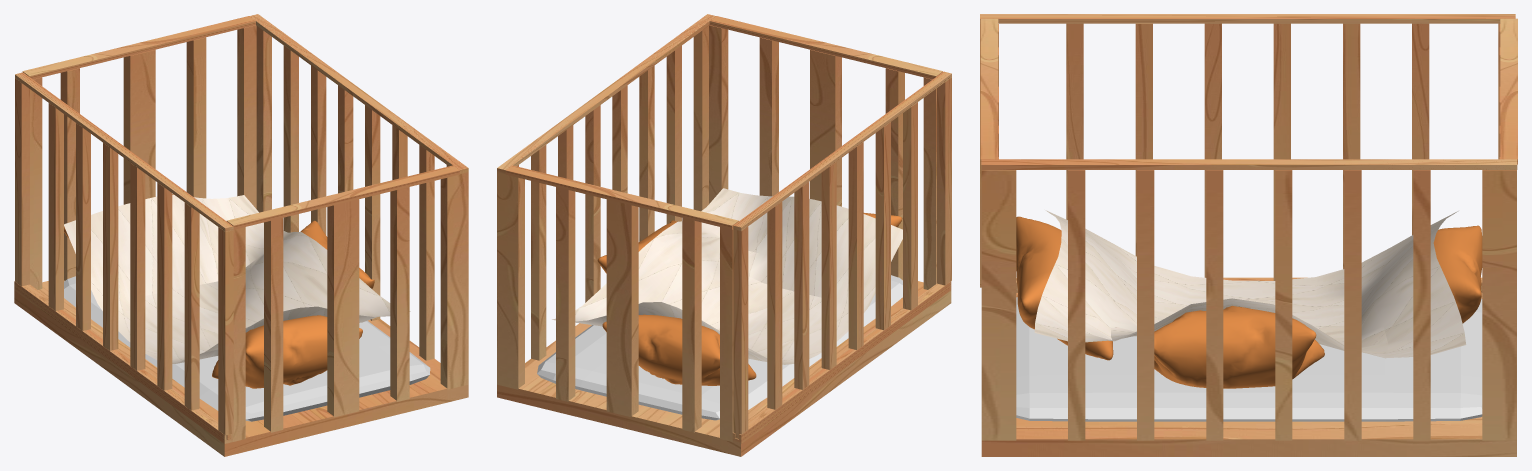
Rendered from park.fbx.
3 views of the same model, side by side, from view 1: azimuth 30°, elevation 25°; view 2: azimuth 150°, elevation 25°; view 3: azimuth 270°, elevation 25° (orthographic). The views are drawn at different scales.
Parts seen in each view (by area): view 1: Cube.007, Cube.006, couverture, Cube, Cube.004, matelat, coussin_droit, Cube.002, Cube.001, coussin_central; view 2: Cube.007, Cube.006, couverture, Cube, Cube.004, matelat, coussin_gauche, Cube.002, Cube.001; view 3: Cube.007, matelat, couverture, Cube.006, Cube, Cube.004, coussin_central, Cube.002, coussin_droit, coussin_gauche.
Part boxes in pixels (x1=…): Cube.007: x1=30, y1=25, x2=468, y2=441; Cube.006: x1=15, y1=78, x2=233, y2=435; couverture: x1=64, y1=194, x2=410, y2=363; Cube: x1=14, y1=280, x2=468, y2=456; Cube.004: x1=22, y1=14, x2=468, y2=229; matelat: x1=64, y1=276, x2=430, y2=421; coussin_droit: x1=212, y1=315, x2=362, y2=388; Cube.002: x1=15, y1=72, x2=233, y2=439; Cube.001: x1=14, y1=281, x2=232, y2=443; coussin_central: x1=300, y1=220, x2=374, y2=288; Cube.007: x1=497, y1=25, x2=936, y2=441; Cube.006: x1=733, y1=77, x2=951, y2=434; couverture: x1=552, y1=188, x2=902, y2=364; Cube: x1=497, y1=279, x2=951, y2=456; Cube.004: x1=497, y1=14, x2=942, y2=229; matelat: x1=537, y1=275, x2=902, y2=420; coussin_gauche: x1=602, y1=314, x2=756, y2=385; Cube.002: x1=733, y1=71, x2=951, y2=438; Cube.001: x1=732, y1=281, x2=951, y2=443; Cube.007: x1=981, y1=24, x2=1516, y2=440; matelat: x1=1016, y1=297, x2=1482, y2=421; couverture: x1=1034, y1=210, x2=1466, y2=358; Cube.006: x1=980, y1=23, x2=1499, y2=282; Cube: x1=981, y1=293, x2=1516, y2=456; Cube.004: x1=980, y1=18, x2=1517, y2=169; coussin_central: x1=1154, y1=306, x2=1324, y2=388; Cube.002: x1=980, y1=14, x2=1515, y2=287; coussin_droit: x1=1016, y1=216, x2=1113, y2=360; coussin_gauche: x1=1433, y1=225, x2=1482, y2=323.
Size of the model in its own units: 407 by 365 by 610.
Materials: 8 (6 with a texture image).
